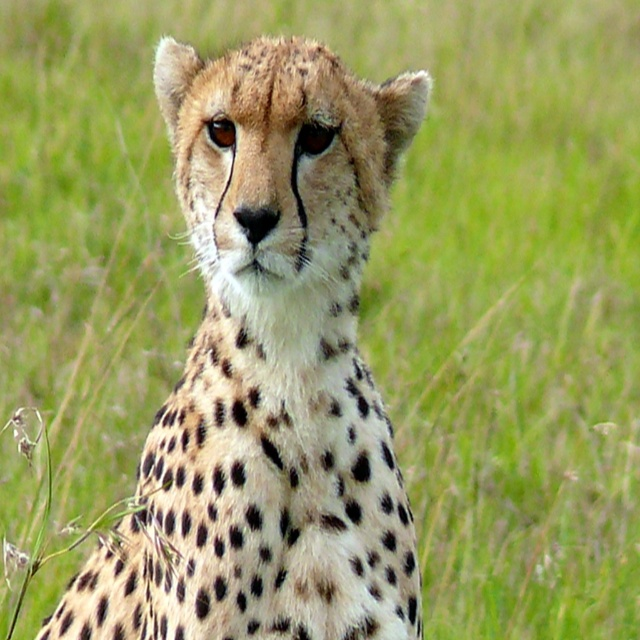Cheetah: (26, 29, 435, 638)
